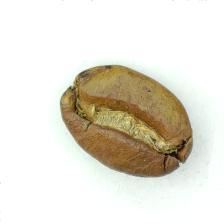NG: (81, 85, 174, 159)
